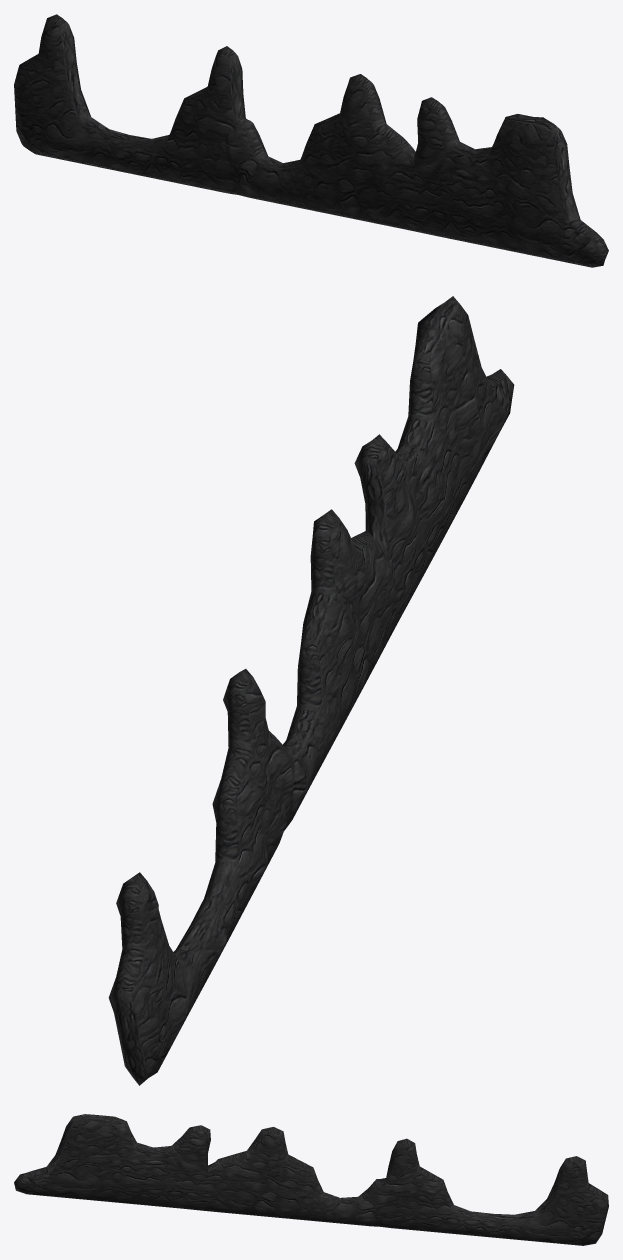
The model's file is BrickWallStraight1Shape.dae.
The picture shows the model from 3 angles, top to bottom: view 1: azimuth 30°, elevation 25°; view 2: azimuth 150°, elevation 25°; view 3: azimuth 270°, elevation 25°; orthographic projection. The views are drawn at different scales.
Parts seen in each view (by area): view 1: BrickWallStraight1; view 2: BrickWallStraight1; view 3: BrickWallStraight1.
Boxes of the visible parts, x1,y1,x2,y2 form: BrickWallStraight1: (14, 14, 608, 267); BrickWallStraight1: (108, 296, 514, 1085); BrickWallStraight1: (14, 1114, 608, 1245).
Bounding box in the file's own units: 14.93 × 21.98 × 65.46.
